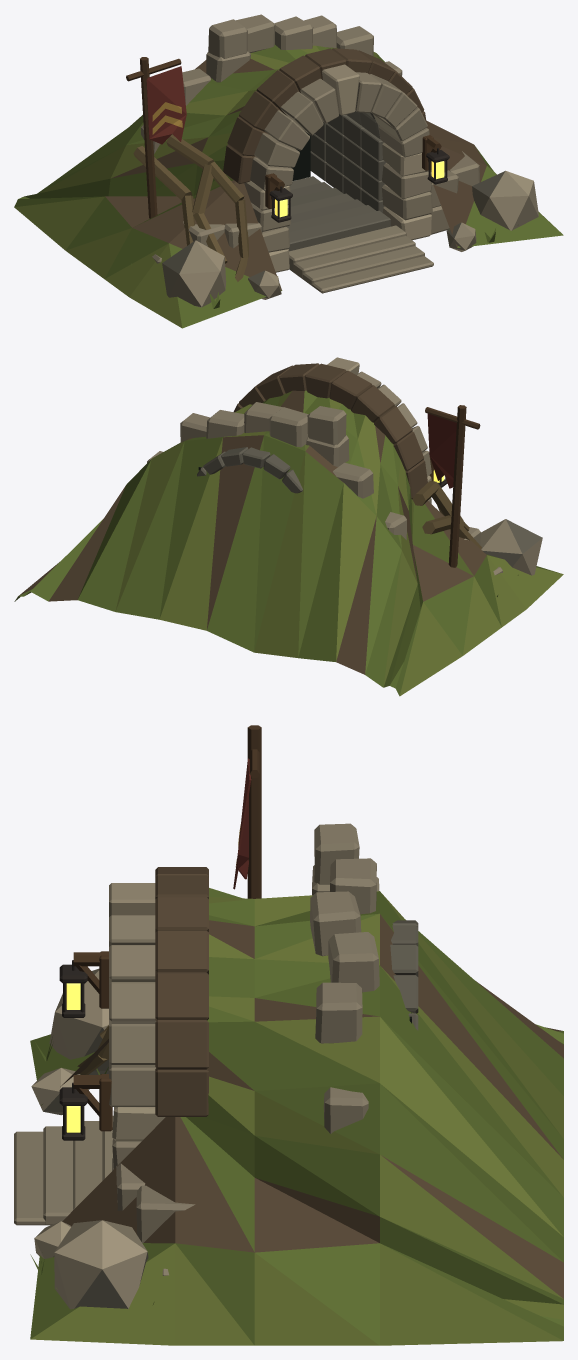
The model's file is old_cellars_entrance.glb.
3 renders of one model, top to bottom at view 1: azimuth 30°, elevation 25°; view 2: azimuth 150°, elevation 25°; view 3: azimuth 270°, elevation 25°, orthographic. The views are drawn at different scales.
Visible parts, largest first — view 1: bw_cellars_ext_matte.005_merged, bw_cellars_ext_lantern.005_merged; view 2: bw_cellars_ext_matte.005_merged; view 3: bw_cellars_ext_matte.005_merged, bw_cellars_ext_lantern.005_merged.
Boxes of the visible parts, x1,y1,x2,y2 form: bw_cellars_ext_matte.005_merged: (14, 14, 563, 328); bw_cellars_ext_lantern.005_merged: (275, 161, 444, 217); bw_cellars_ext_matte.005_merged: (14, 357, 563, 696); bw_cellars_ext_matte.005_merged: (14, 725, 563, 1345); bw_cellars_ext_lantern.005_merged: (66, 983, 80, 1132).
Bounding box in the file's own units: 10 × 5.31 × 7.47.
